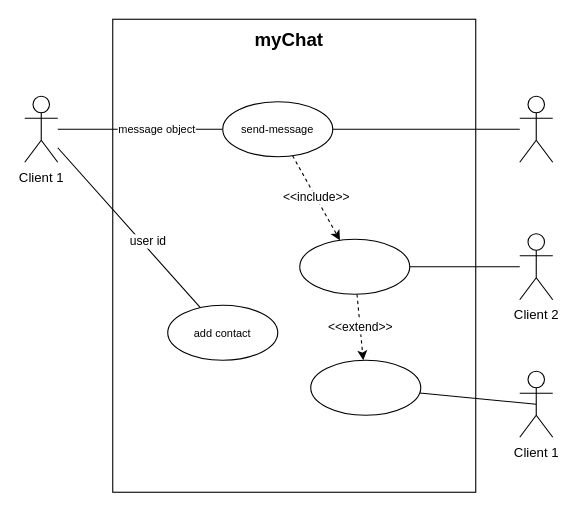
The diagram is 578 pixels wide and 521 high, and some of its shapes have lost their labels. The shapes that lost their labels are listed below. From the top down, each one's box as (x1, y1, x2, y2) in pixels, then its label:
(519, 95, 553, 162): Server
(299, 238, 410, 294): receive-message
(310, 359, 421, 415): message-delivered
